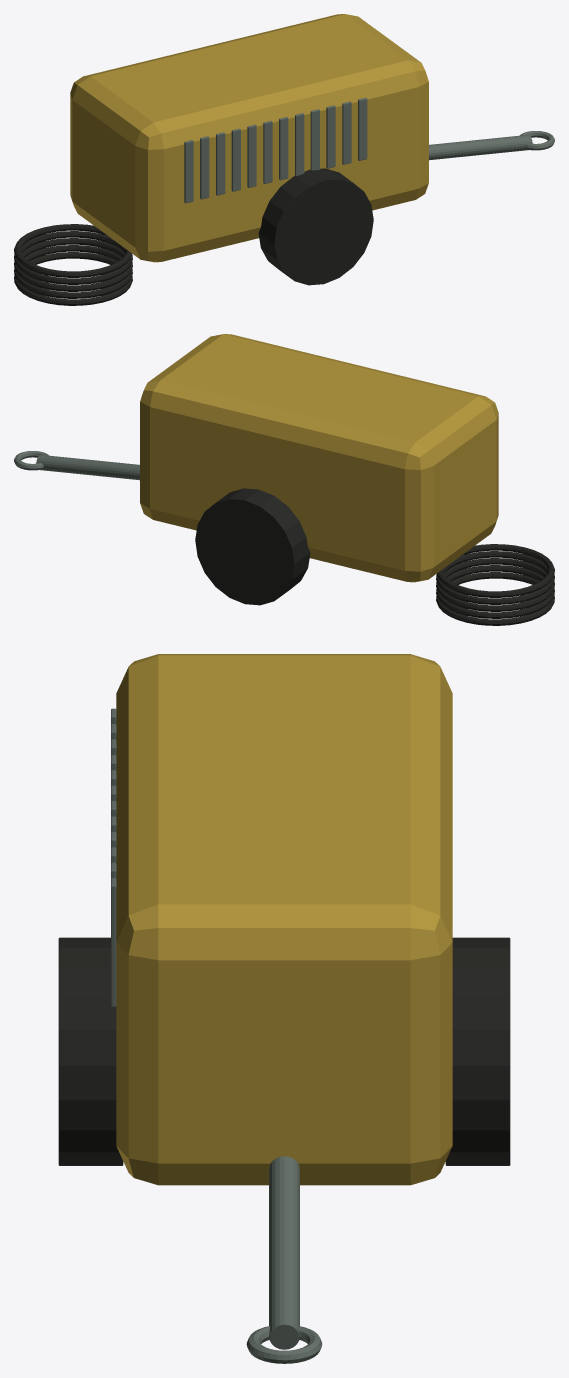
Rendered from QuarryCompressor.fbx.
The picture shows the model from 3 angles, top to bottom: view 1: azimuth 30°, elevation 25°; view 2: azimuth 150°, elevation 25°; view 3: azimuth 270°, elevation 25°; orthographic projection. The views are drawn at different scales.
Parts seen in each view (by area): view 1: QuarryCompressor; view 2: QuarryCompressor; view 3: QuarryCompressor.
Boxes of the visible parts, left/top/right/bottom form: QuarryCompressor: left=14, top=14, right=554, bottom=305; QuarryCompressor: left=14, top=334, right=554, bottom=625; QuarryCompressor: left=58, top=654, right=510, bottom=1363.
Bounding box in the file's own units: 437 × 161 × 141.
